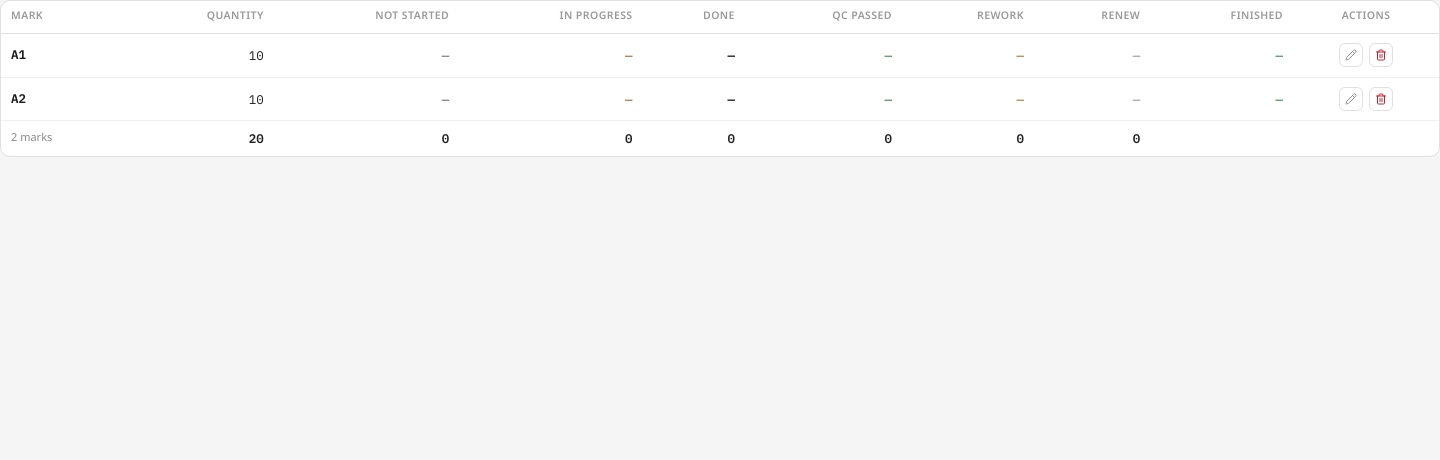
Scenario: WoMarksTable — history inside the edit panel › renders the history as a table aligned with the inputs — only this mark, newest first, noise hidden
Step 1. Click the button titled "Edit qty" in the row of "A1" → (1351, 55), box [1339, 43, 1363, 67]
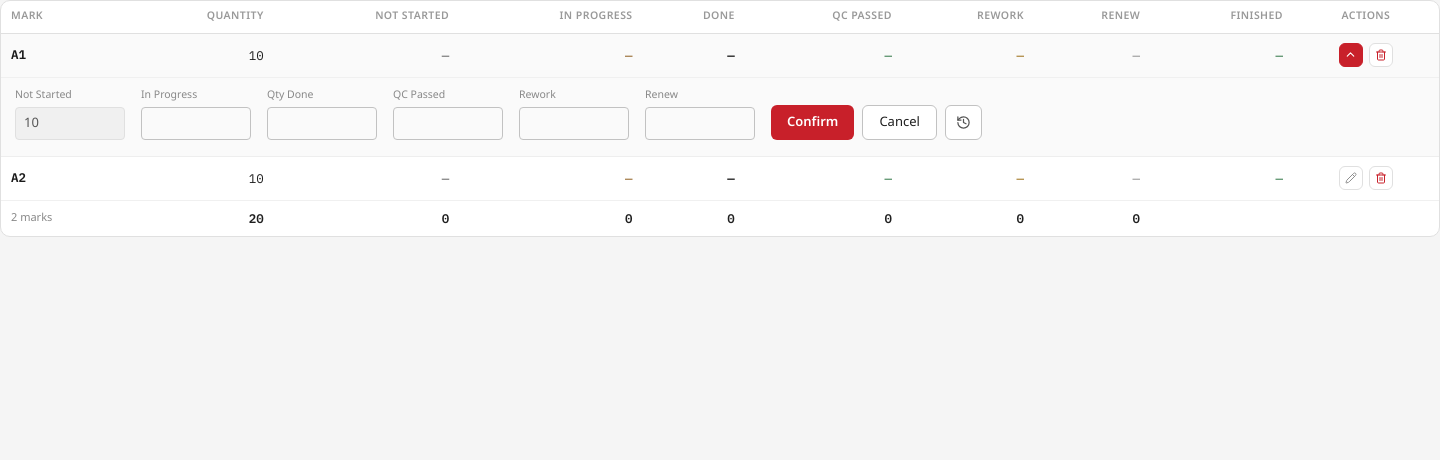
Step 2. Click the button named "show history" → (963, 123), box [945, 105, 982, 140]
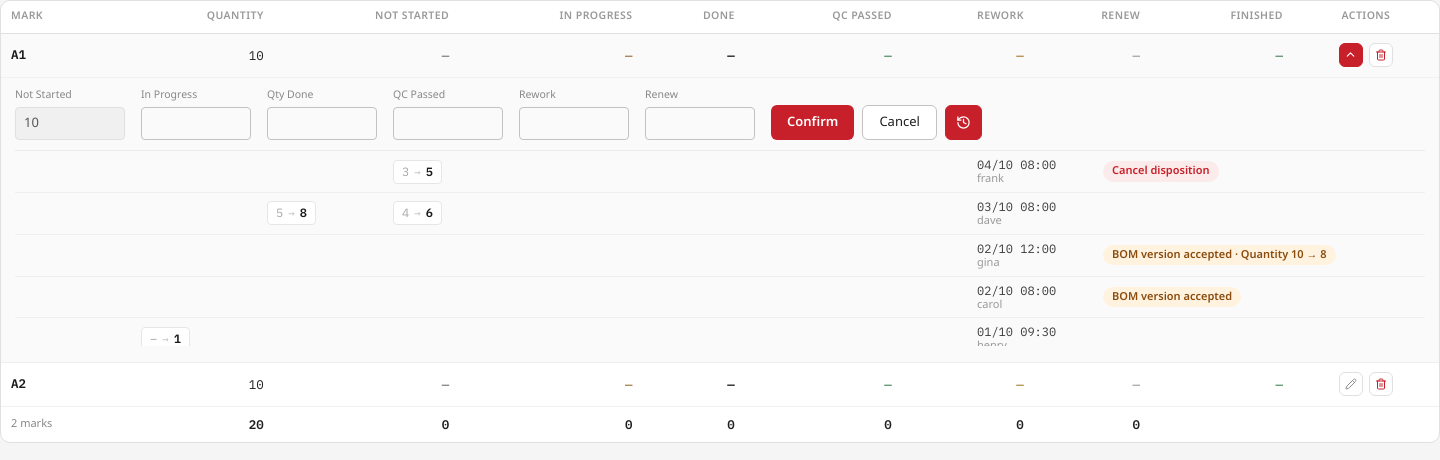
Expected: the text "Cancel disposition" is shown, [1103, 161, 1218, 182]
Expected: the text "BOM version accepted · Quantity 10 → 8" is shown, [1103, 245, 1336, 265]
Expected: the text "BOM version accepted" is shown, [1103, 287, 1241, 307]
